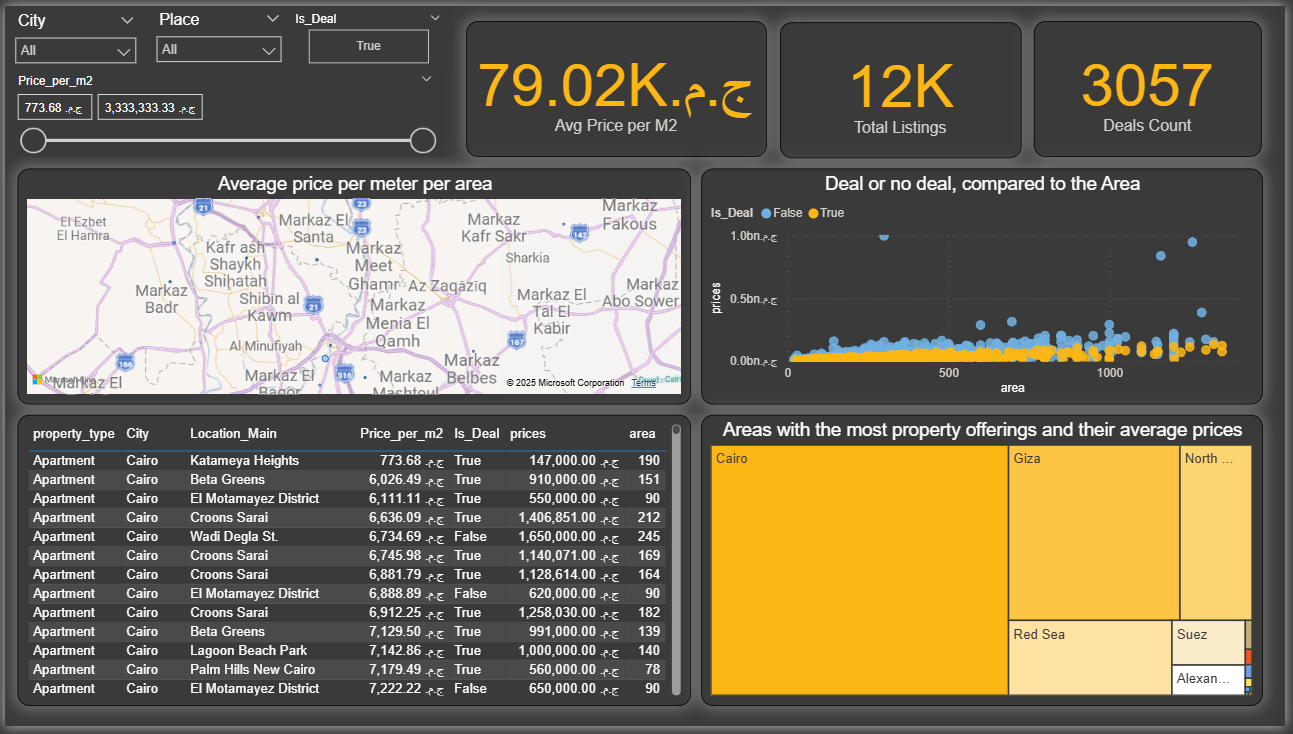

The page's visual inventory and layout, read from the dashboard file:
{"tool":"powerbi","page":{"name":"Page 1","canvas":[1280,720],"ordinal":0},"visuals":[{"type":"card","fields":{"Values":["cleaned_real_estate_data.Avg Price per M2"]},"box":[461.1,15.1,300.5,135.8],"z":0},{"type":"card","fields":{"Values":["cleaned_real_estate_data.Total Listings"]},"box":[775.3,16.5,241.5,135.8],"z":1000},{"type":"card","fields":{"Values":["cleaned_real_estate_data.Deals Count"]},"box":[1029.2,15.1,227.8,135.8],"z":2000},{"type":"map","title":"Average price per meter per area","fields":{"Size":["Sum(cleaned_real_estate_data.Price_per_m2)"],"Category":["cleaned_real_estate_data.Location_Main"]},"box":[12.3,161.9,673.8,236],"z":3000},{"type":"scatterChart","title":"Deal or no deal, compared to the Area","fields":{"Y":["cleaned_real_estate_data.prices"],"Series":["cleaned_real_estate_data.Is_Deal"],"X":["cleaned_real_estate_data.area"]},"box":[695.7,161.9,561.2,236],"z":4000},{"type":"tableEx","fields":{"Values":["cleaned_real_estate_data.property_type","cleaned_real_estate_data.City","cleaned_real_estate_data.Location_Main","cleaned_real_estate_data.Price_per_m2","cleaned_real_estate_data.Is_Deal","cleaned_real_estate_data.prices","cleaned_real_estate_data.area"]},"box":[12.3,408.9,673.8,290.9],"z":5000},{"type":"treemap","title":"Areas with the most property offerings and their average prices","fields":{"Values":["cleaned_real_estate_data.Total Listings"],"Group":["cleaned_real_estate_data.City"]},"box":[695.7,408.9,561.2,290.9],"z":6000},{"type":"slicer","fields":{"Values":["cleaned_real_estate_data.City"]},"box":[0,1.4,141.3,75.5],"z":6001},{"type":"slicer","fields":{"Values":["cleaned_real_estate_data.Location_Main"]},"box":[141.3,0,145.5,75.5],"z":6002},{"type":"slicer","fields":{"Values":["cleaned_real_estate_data.Price_per_m2"]},"box":[0,63.1,439.1,87.8],"z":6003},{"type":"slicer","fields":{"Values":["cleaned_real_estate_data.Is_Deal"]},"box":[277.2,1.4,170.2,63.1],"z":6004}]}

Visuals, with their boxes in screenshot pixels (x1, y1, x2, y2), scaled from the page's 1280x720 canvas onto the 1293x734 screenshot:
card - cleaned_real_estate_data.Avg Price per M2: x1=466, y1=15, x2=769, y2=154
card - cleaned_real_estate_data.Total Listings: x1=783, y1=17, x2=1027, y2=155
card - cleaned_real_estate_data.Deals Count: x1=1040, y1=15, x2=1270, y2=154
"Average price per meter per area" map: x1=12, y1=165, x2=693, y2=406
"Deal or no deal, compared to the Area" scatterChart: x1=703, y1=165, x2=1270, y2=406
tableEx - cleaned_real_estate_data.property_type x cleaned_real_estate_data.City: x1=12, y1=417, x2=693, y2=713
"Areas with the most property offerings and their average prices" treemap: x1=703, y1=417, x2=1270, y2=713
slicer - cleaned_real_estate_data.City: x1=0, y1=1, x2=143, y2=78
slicer - cleaned_real_estate_data.Location_Main: x1=143, y1=0, x2=290, y2=77
slicer - cleaned_real_estate_data.Price_per_m2: x1=0, y1=64, x2=444, y2=154
slicer - cleaned_real_estate_data.Is_Deal: x1=280, y1=1, x2=452, y2=66
